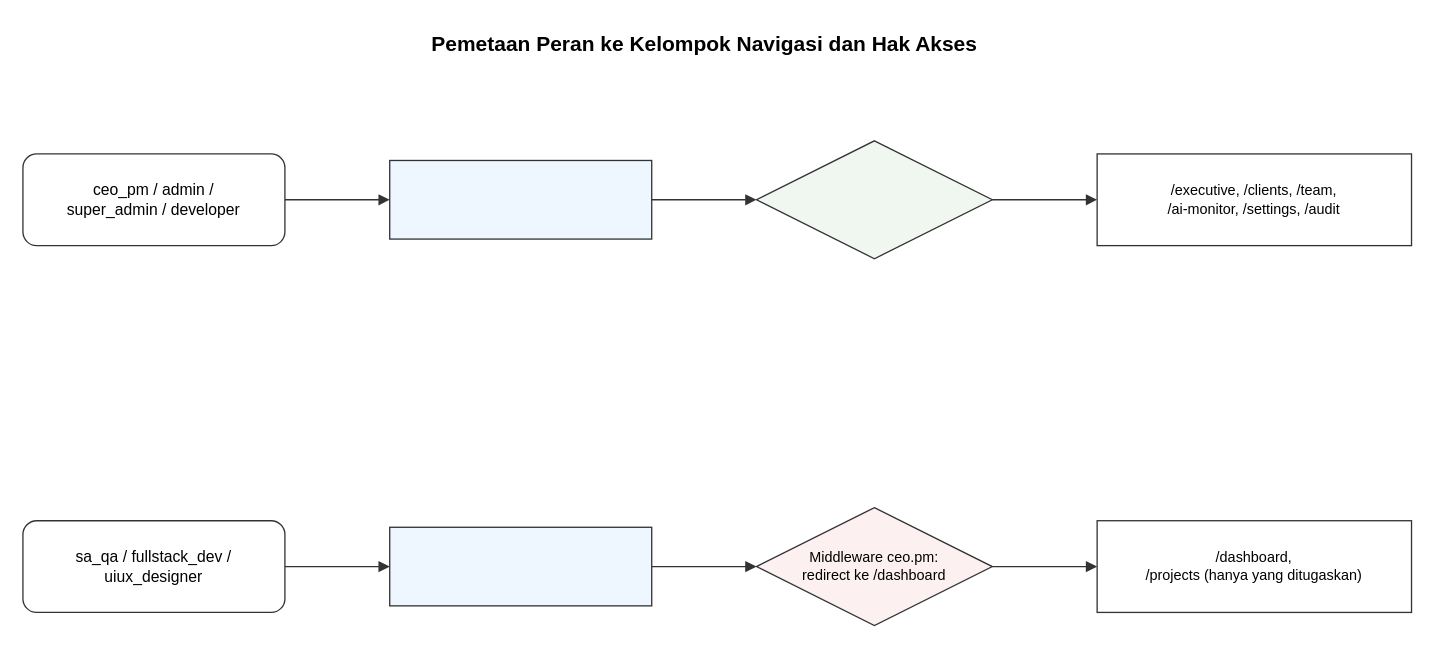
This 1434x648 diagram has some shape labels left out. The centre of each missing label's shape, as x and y in pixels:
Grup CEO (Executive): (520,199)
Grup Operational: (520,566)
Middleware ceo.pm: LOLOS: (873,199)
